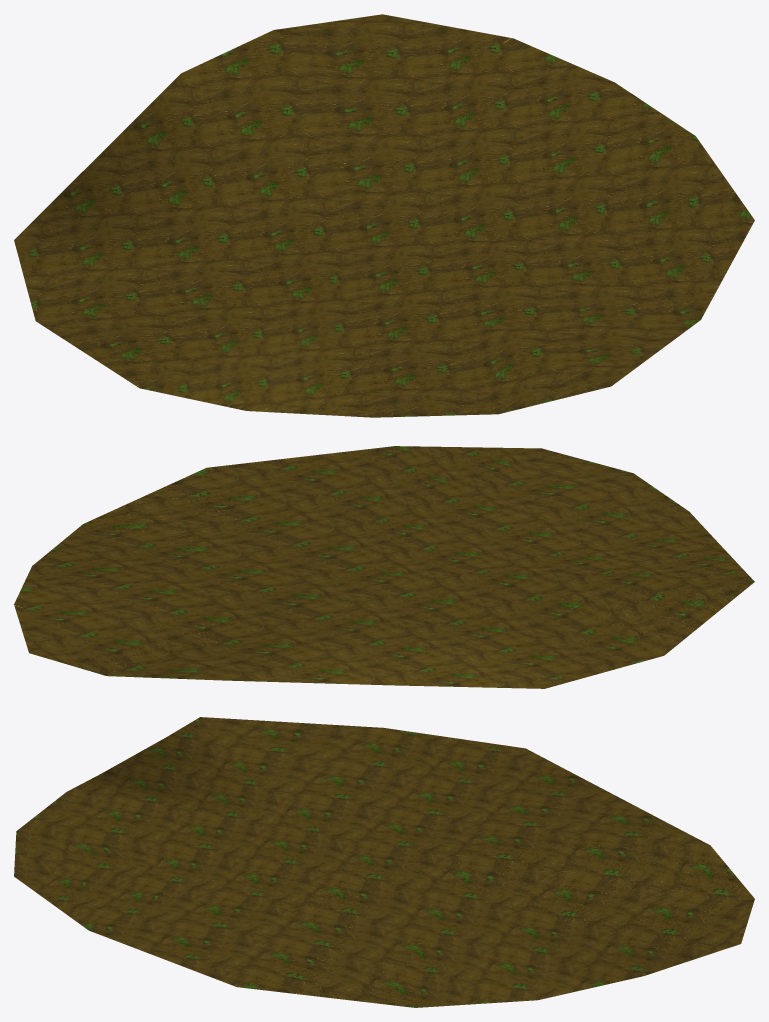
File: INST_PITCOVER_GROUND.fbx
3 renders of one model, top to bottom at view 1: azimuth 30°, elevation 25°; view 2: azimuth 150°, elevation 25°; view 3: azimuth 270°, elevation 25°, orthographic. The views are drawn at different scales.
Visible parts, largest first — view 1: INST_PITCOVER_GROUND; view 2: INST_PITCOVER_GROUND; view 3: INST_PITCOVER_GROUND.
Part boxes in pixels (box(x1,y1,x2,y2)): INST_PITCOVER_GROUND: box(14, 14, 754, 417); INST_PITCOVER_GROUND: box(14, 446, 754, 688); INST_PITCOVER_GROUND: box(14, 717, 754, 1007).
Size of the model in its own units: 128134 by 4956 by 140139.
1 material, 1 textured.
